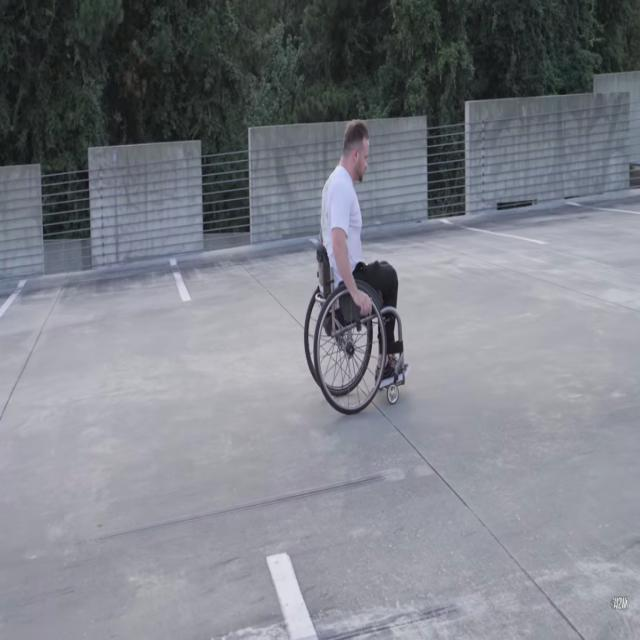wheelchairs: (302, 255, 408, 407)
